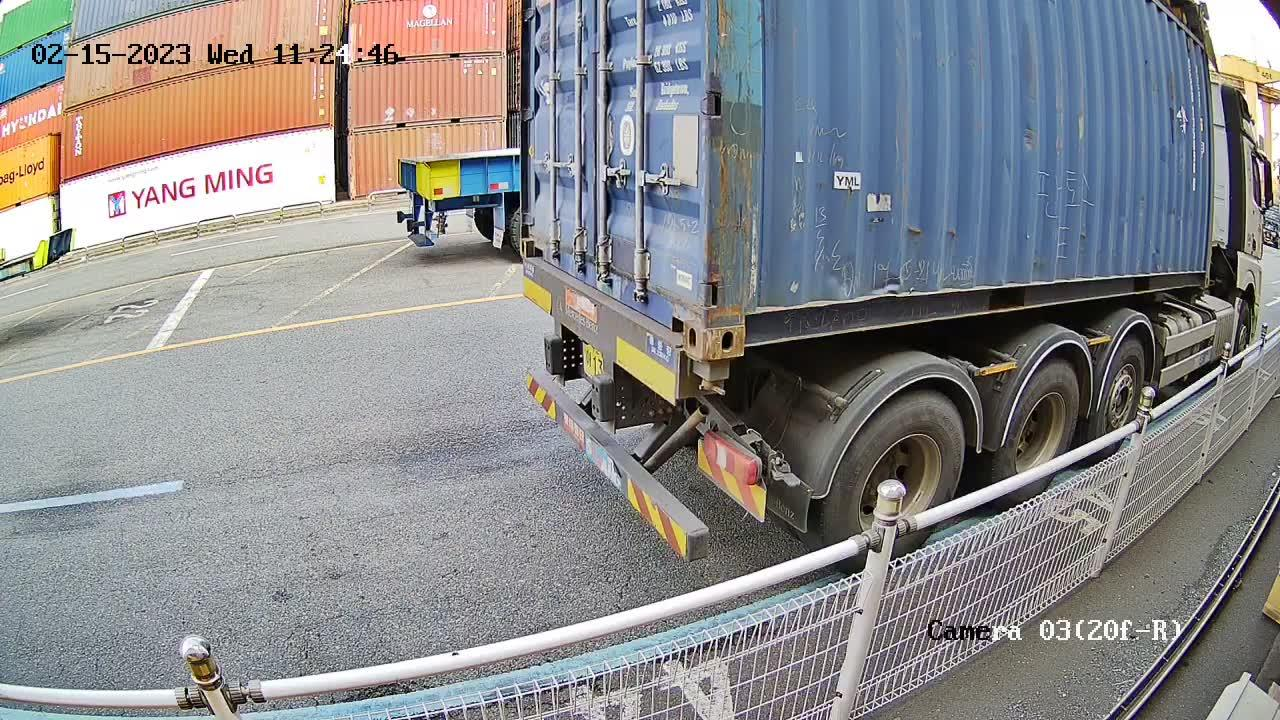Chassis: (518, 262, 694, 406)
Cone: (684, 361, 732, 399)
Hole_L: (703, 282, 784, 361), (518, 206, 556, 267)
Hole_R: (658, 272, 705, 367)
Tire: (825, 393, 970, 534), (997, 362, 1083, 483), (1092, 339, 1149, 440)
